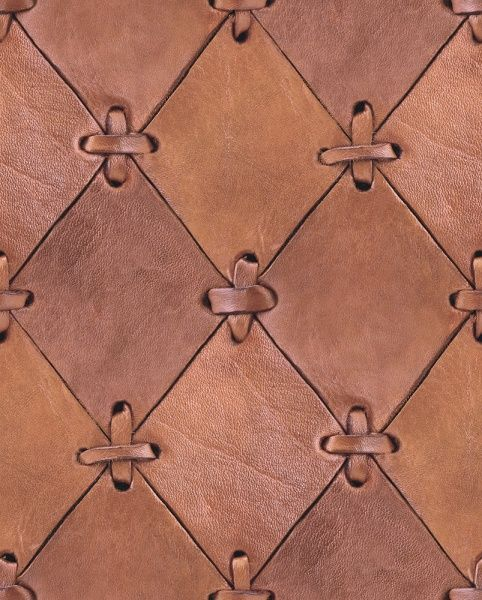cuero: (1, 1, 482, 600)
